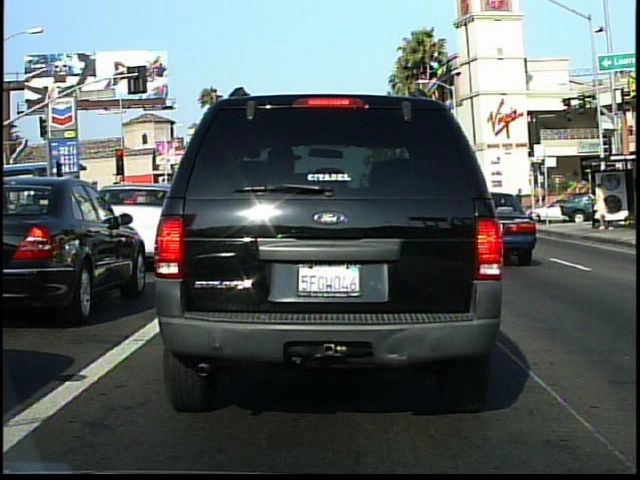person: (589, 177, 614, 234)
